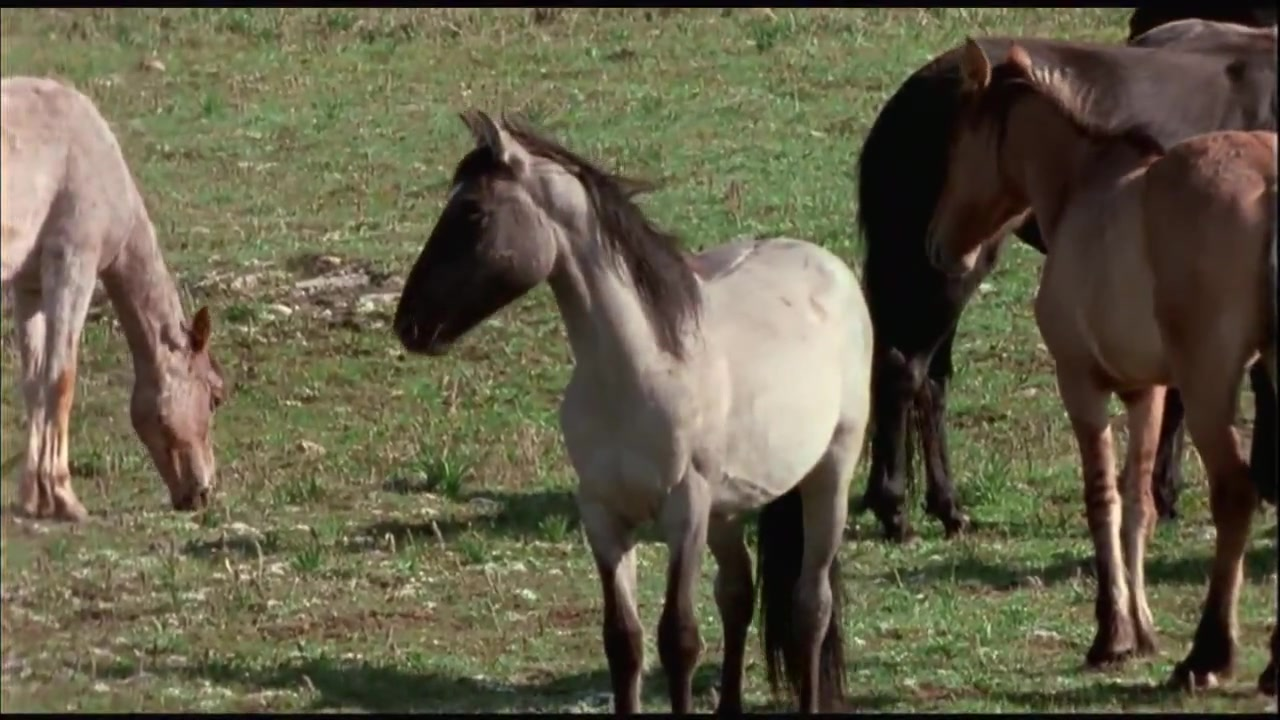horse: (392, 107, 876, 720)
